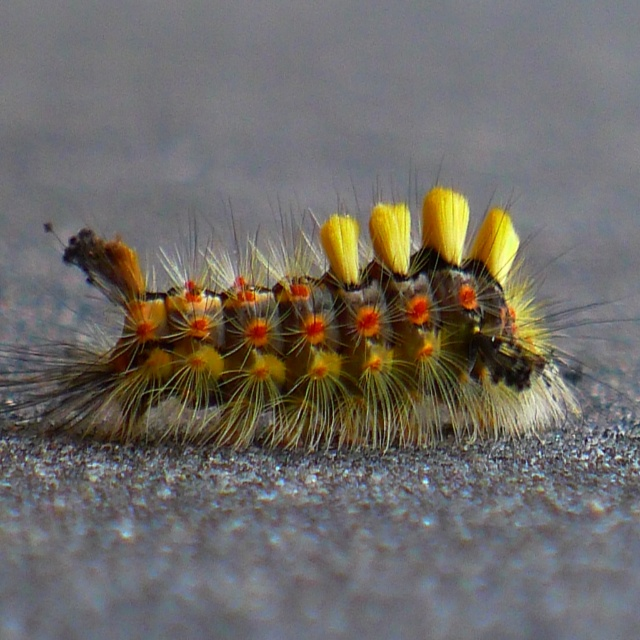Caterpillar: (0, 156, 637, 448)
